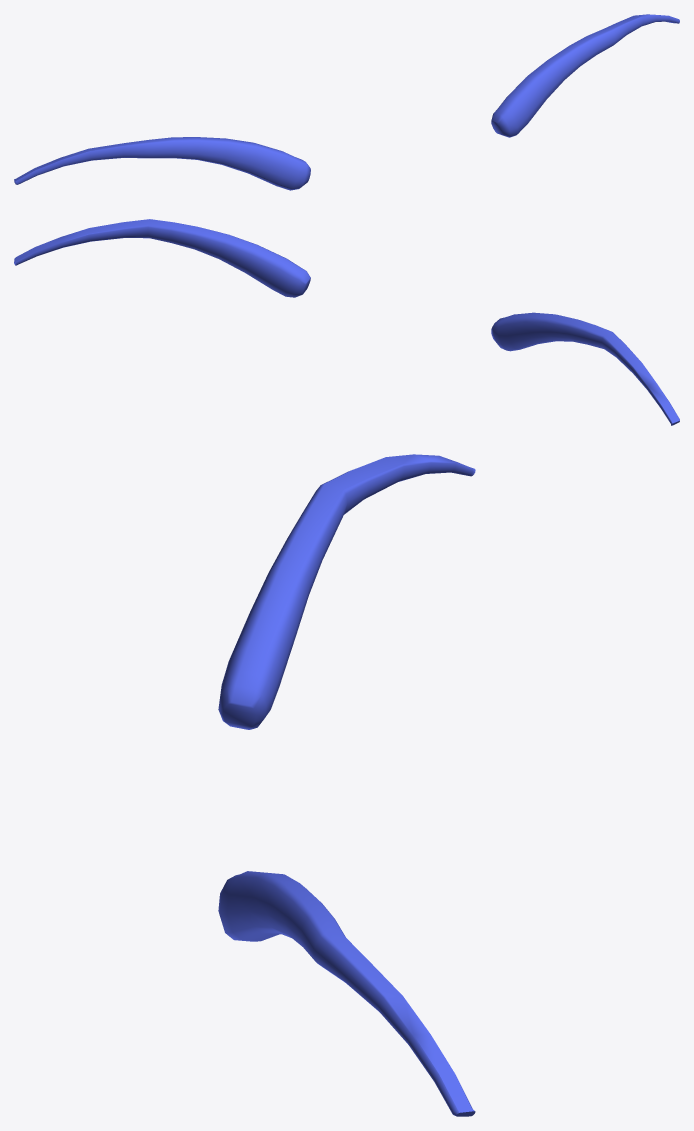
File: Eyebrows_29_03.fbx
3 views of the same model, one above another, from view 1: azimuth 30°, elevation 25°; view 2: azimuth 150°, elevation 25°; view 3: azimuth 270°, elevation 25° (orthographic). The views are drawn at different scales.
Visible parts, largest first — view 1: Eyebrows_29_03; view 2: Eyebrows_29_03; view 3: Eyebrows_29_03.
Part boxes in pixels (box(x1,y1,x2,y2)): Eyebrows_29_03: box(14, 14, 679, 190); Eyebrows_29_03: box(14, 219, 679, 425); Eyebrows_29_03: box(218, 454, 475, 1116).
Bounding box in the file's own units: 19.88 × 1.77 × 3.33.
